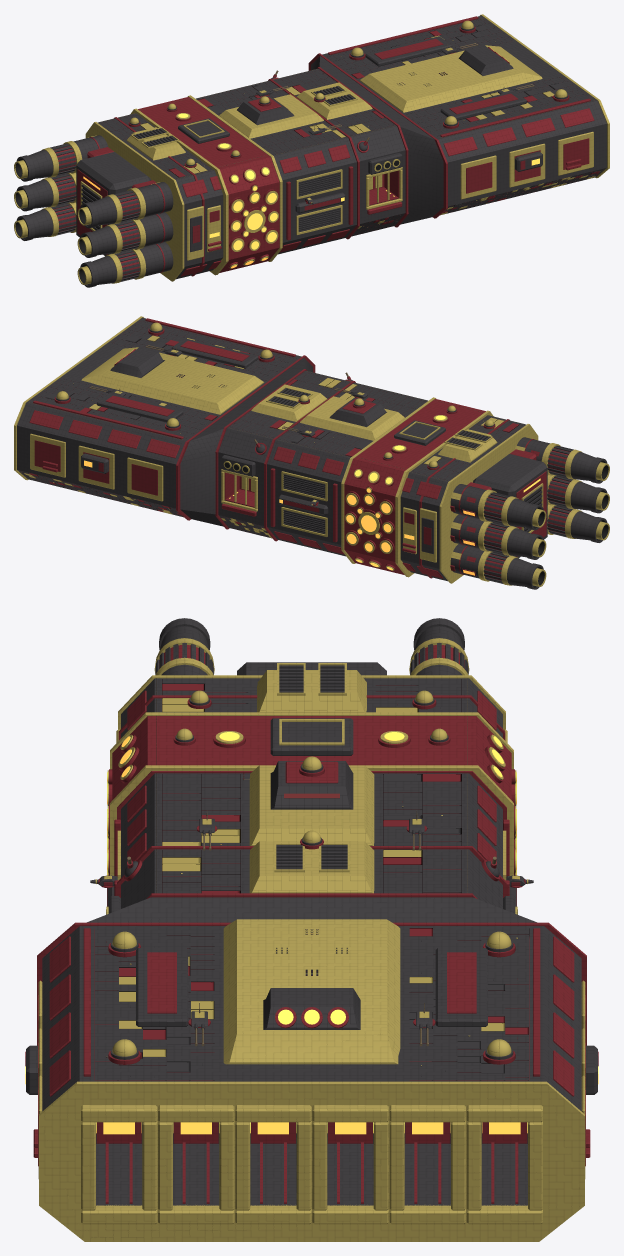
File: 賽璐璐_帝國.glb
The picture shows the model from 3 angles, top to bottom: view 1: azimuth 30°, elevation 25°; view 2: azimuth 150°, elevation 25°; view 3: azimuth 270°, elevation 25°; orthographic projection. The views are drawn at different scales.
Visible parts, largest first — view 1: bow_bow_mid, mid_mid, bow_light, bow_dark, bow_mid, ring_dark, stern_mid, stern_light, hangar_hull_mid, ring_light, engines.thruster.001, engines.thruster.003 (+14 smaller); view 2: bow_bow_mid, mid_mid, bow_light, bow_dark, bow_mid, ring_dark, stern_mid, stern_light, hangar_hull_mid, ring_light, engines.thruster, engines.thruster.002 (+14 smaller); view 3: bow_light, bow_bow_mid, bow_bow_light, bow_dark, bow_mid, mid_mid, ring_dark, hangar_hull_mid, stern_mid, ring_light, mid_light, stern_light (+10 smaller).
Part boxes in pixels (x1,y1,x2,y2): bow_bow_mid: [322, 15, 606, 213]; mid_mid: [196, 80, 356, 254]; bow_light: [359, 45, 593, 199]; bow_dark: [308, 16, 594, 227]; bow_mid: [311, 36, 542, 224]; ring_dark: [138, 97, 279, 272]; stern_mid: [76, 113, 223, 279]; stern_light: [80, 122, 220, 281]; hangar_hull_mid: [273, 68, 405, 236]; ring_light: [130, 95, 282, 275]; engines.thruster.001: [77, 182, 173, 228]; engines.thruster.003: [77, 212, 173, 257]; bow_bow_mid: [17, 317, 301, 517]; mid_mid: [267, 382, 427, 556]; bow_light: [30, 347, 264, 501]; bow_dark: [29, 318, 315, 529]; bow_mid: [81, 338, 312, 526]; ring_dark: [344, 399, 485, 574]; stern_mid: [400, 415, 547, 581]; stern_light: [403, 424, 543, 583]; hangar_hull_mid: [218, 370, 350, 537]; ring_light: [341, 397, 493, 577]; engines.thruster: [450, 484, 546, 530]; engines.thruster.002: [450, 514, 546, 559]; bow_light: [38, 919, 585, 1224]; bow_bow_mid: [42, 926, 581, 1205]; bow_bow_light: [39, 1081, 584, 1241]; bow_dark: [25, 893, 598, 1203]; bow_mid: [26, 897, 597, 1094]; mid_mid: [107, 761, 516, 906]; ring_dark: [109, 716, 514, 875]; hangar_hull_mid: [121, 849, 502, 908]; stern_mid: [121, 662, 502, 737]; ring_light: [107, 712, 516, 875]; mid_light: [117, 765, 506, 880]; stern_light: [116, 663, 507, 742].
Size of the model in its own units: 1200 by 311 by 600.
7 materials, 4 textured.
